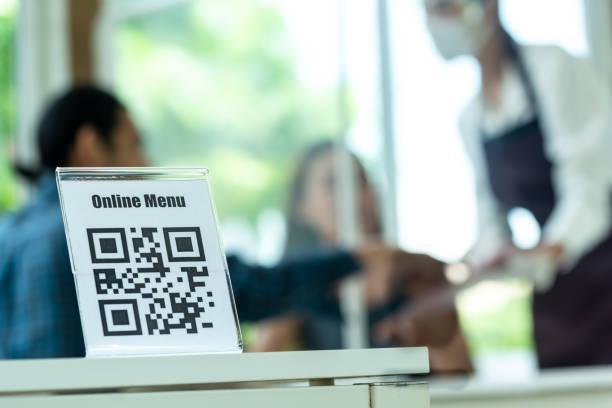Finder pattern: (85, 224, 133, 266), (95, 296, 143, 338), (161, 224, 208, 266)
